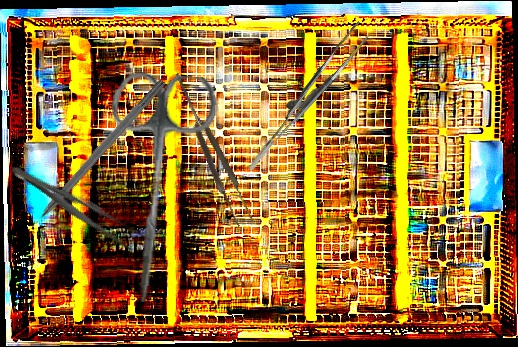Dressing Forceps: (4, 157, 154, 259)
Hook Surgical: (18, 76, 168, 240)
Iris Scissors: (95, 69, 220, 308)
Tissue Forceps: (226, 21, 384, 171), (168, 68, 255, 229)
